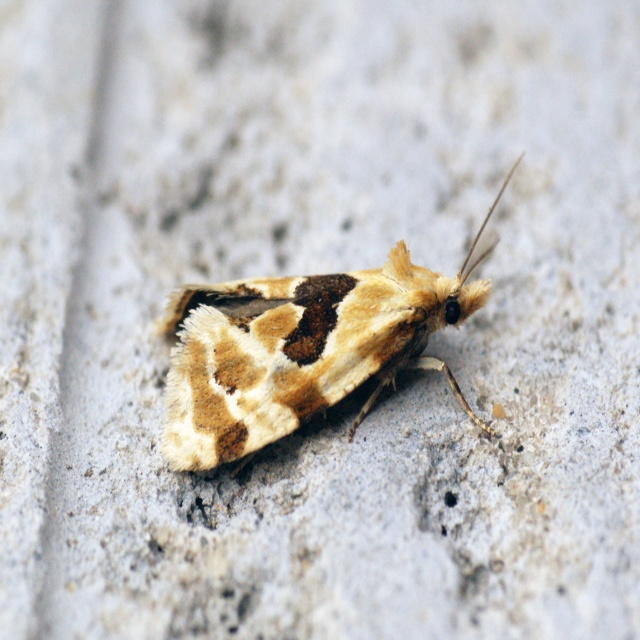Moths and butterflies: (146, 145, 532, 478)
